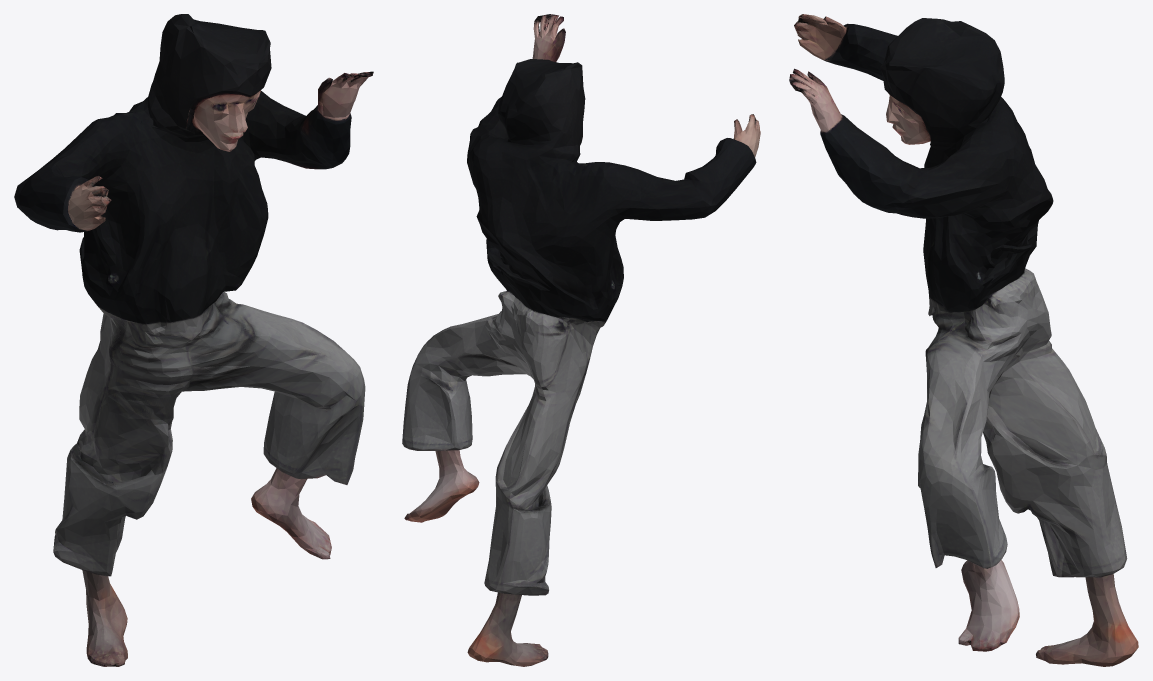
Rendered from sleep.gltf.
The picture shows the model from 3 angles, left to right: view 1: azimuth 30°, elevation 25°; view 2: azimuth 150°, elevation 25°; view 3: azimuth 270°, elevation 25°; orthographic projection. The views are drawn at different scales.
Visible parts, largest first — view 1: world; view 2: world; view 3: world.
Part boxes in pixels (x1,y1,x2,y2): world: [14, 14, 373, 666]; world: [402, 14, 760, 666]; world: [789, 14, 1138, 666].
Size of the model in its own units: 0.5476 by 0.9909 by 0.4848.
Materials: 1 (1 with a texture image).
